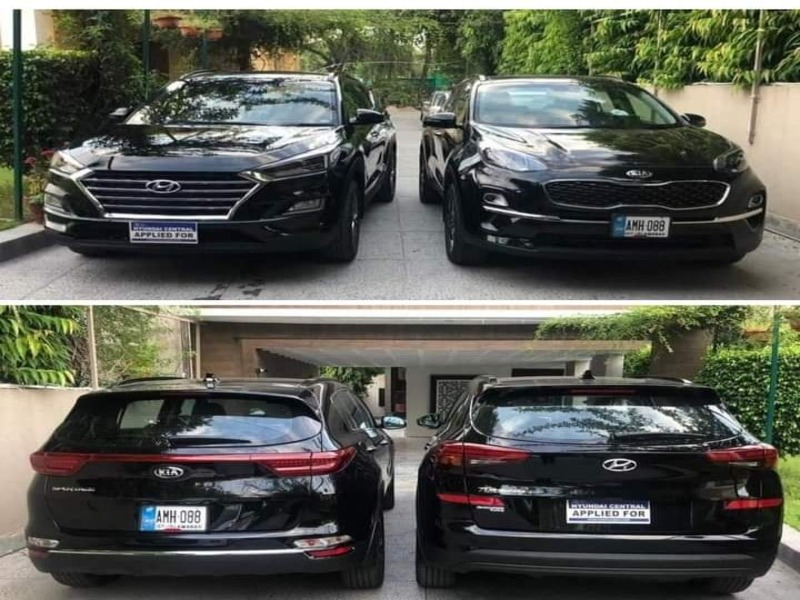License Plate: (563, 490, 657, 532), (134, 498, 213, 540), (126, 215, 202, 253), (609, 210, 675, 244)
